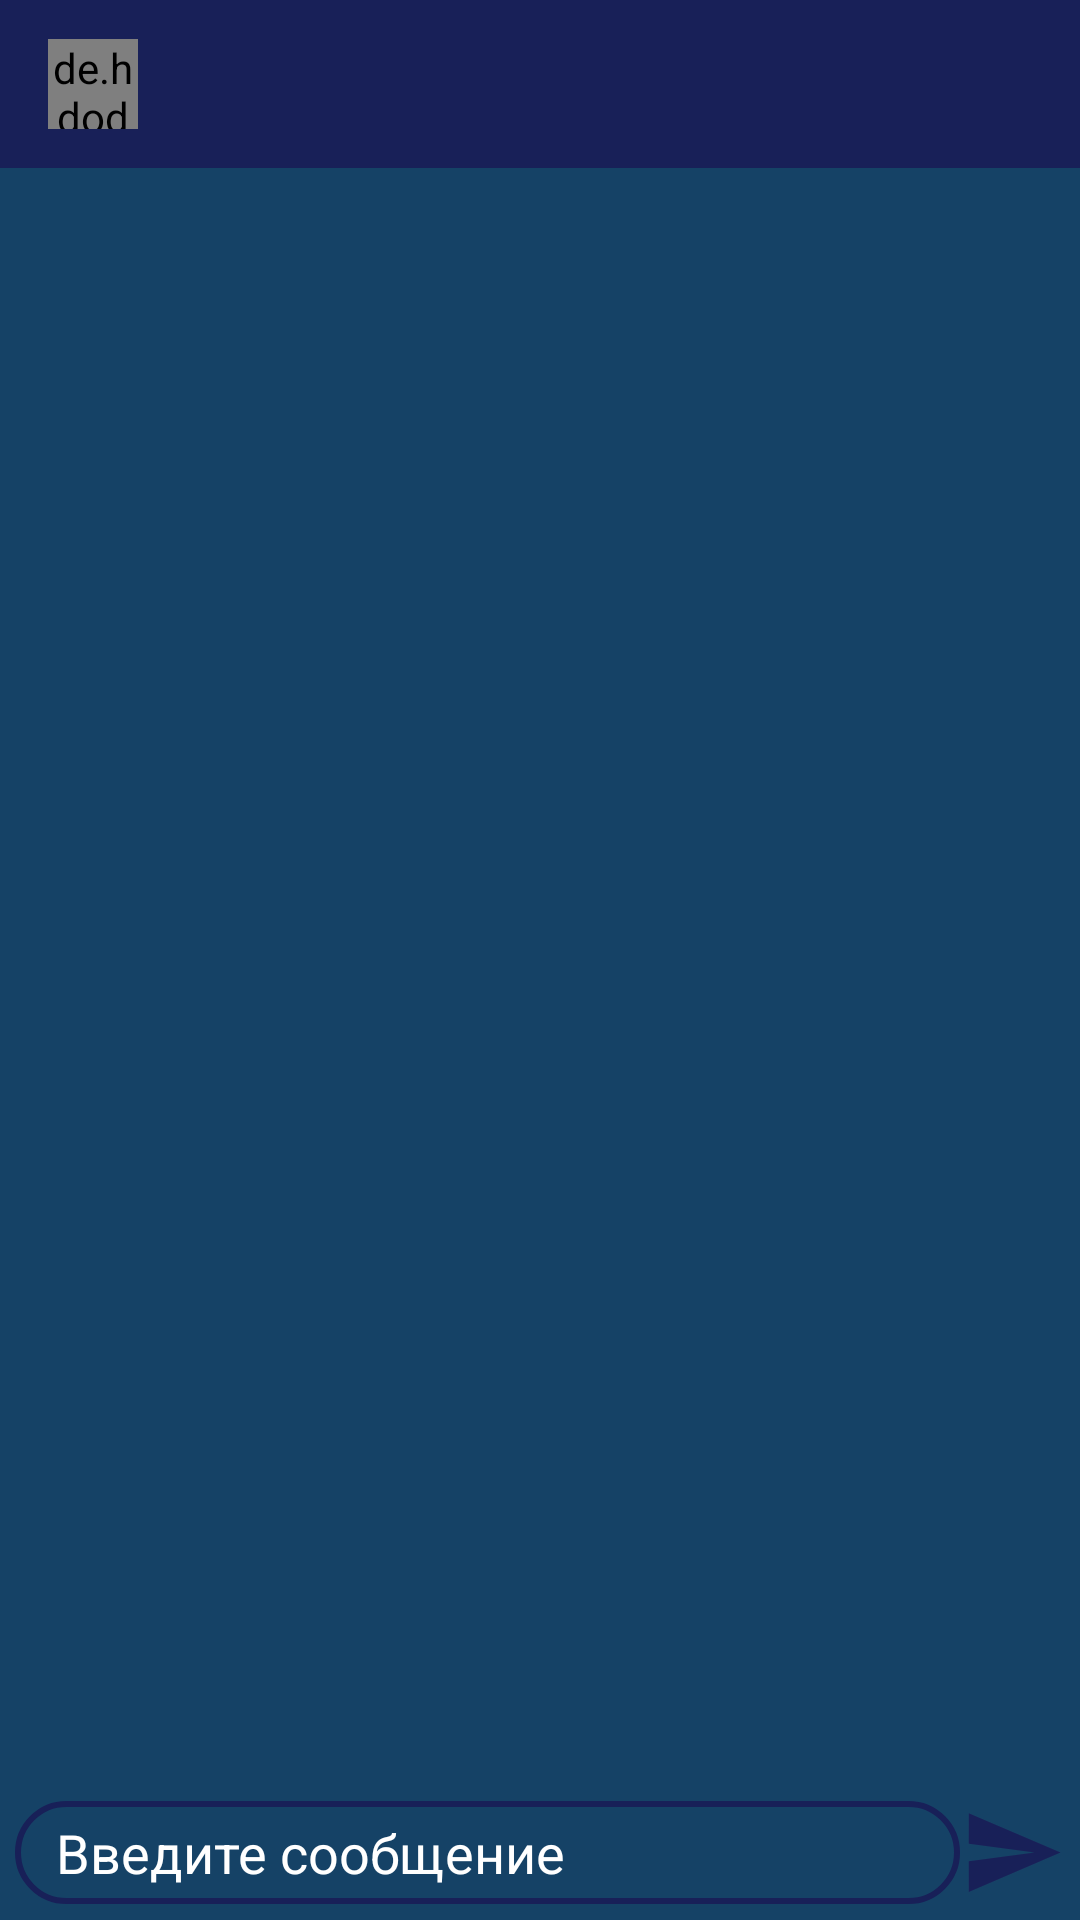

Icon click points for this 1080 × 1920 phone screenshot, format (x=x, y=y):
send: (x=1014, y=1852)
